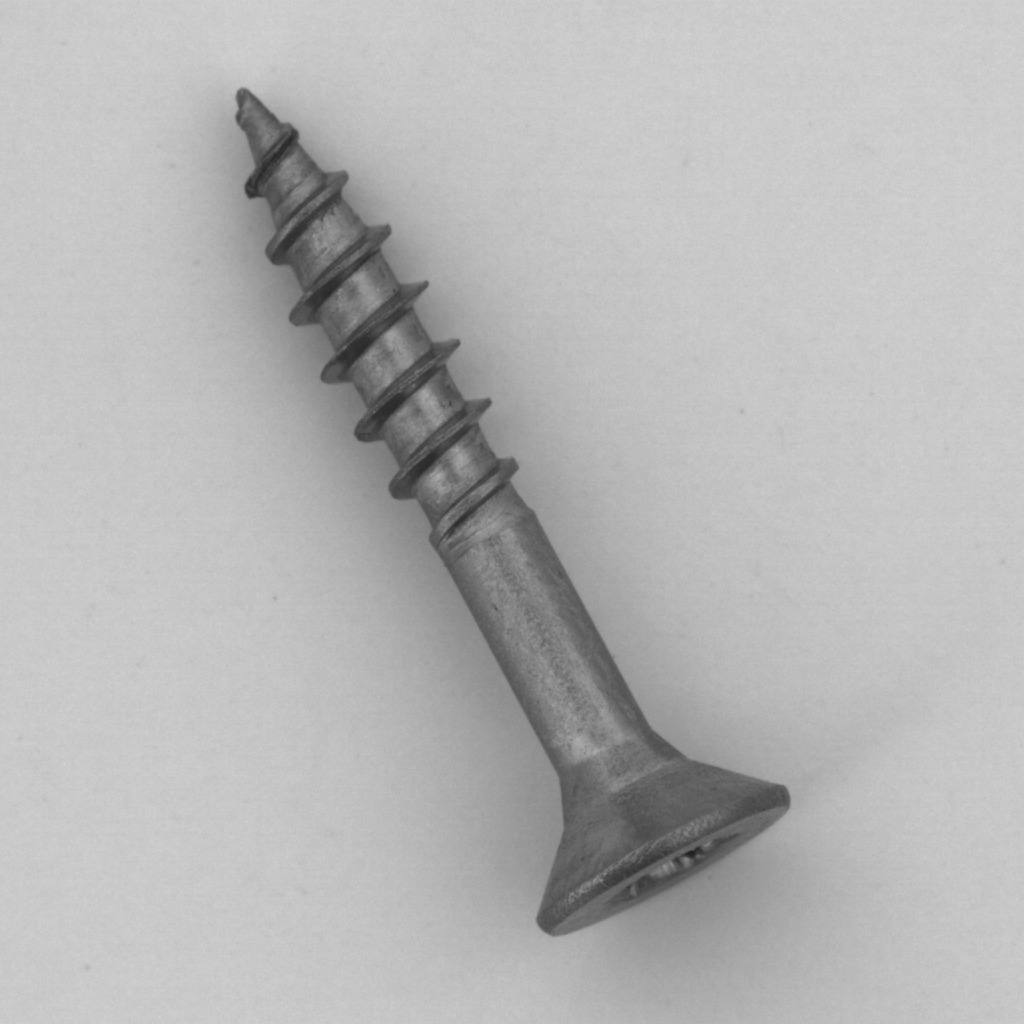good: (209, 62, 809, 954)
